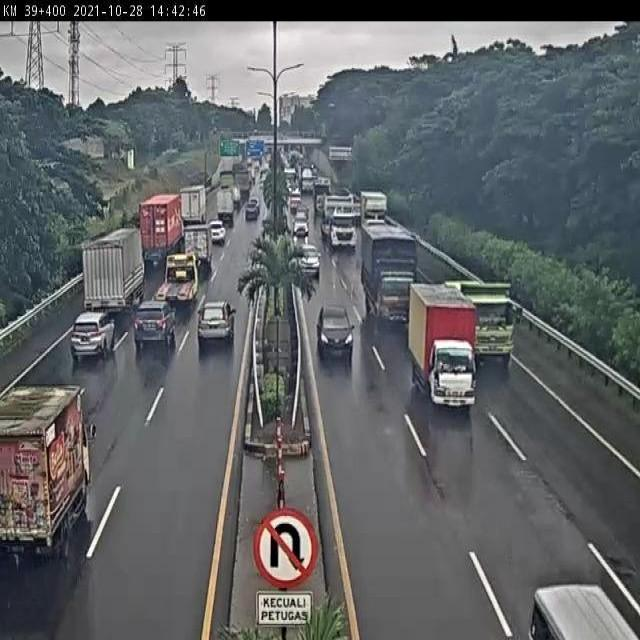big truck: (136, 192, 182, 257)
car: (70, 309, 117, 362), (317, 304, 356, 359), (196, 299, 237, 348), (132, 304, 173, 351), (297, 244, 322, 279)
mid truck: (84, 228, 146, 311)
small truck: (182, 219, 210, 265)
truck-l-: (451, 280, 514, 364)
truck-m-: (0, 378, 97, 570), (411, 285, 474, 407), (362, 229, 418, 323), (151, 252, 199, 303)
